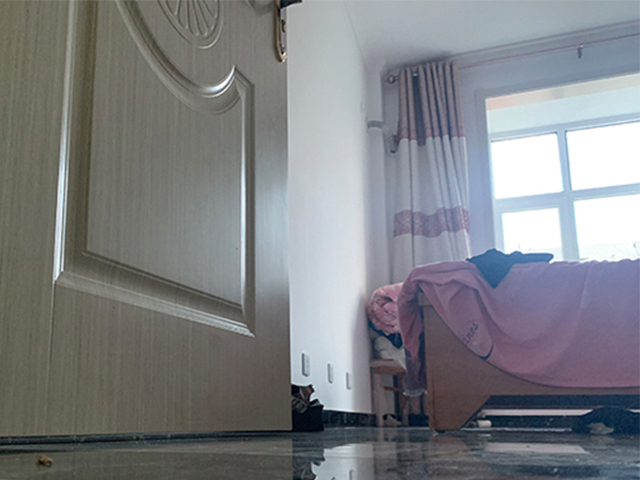bed: (396, 249, 640, 435)
curtain: (386, 59, 469, 278)
